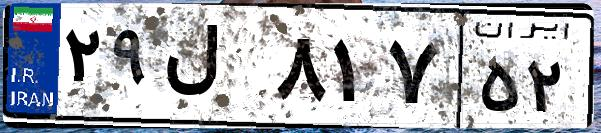1: (330, 28, 385, 110)
2: (57, 26, 110, 100), (525, 38, 570, 115)
5: (475, 38, 525, 113)
7: (385, 28, 445, 110)
8: (270, 28, 330, 110)
9: (110, 28, 158, 98)
ل: (158, 20, 270, 120)
